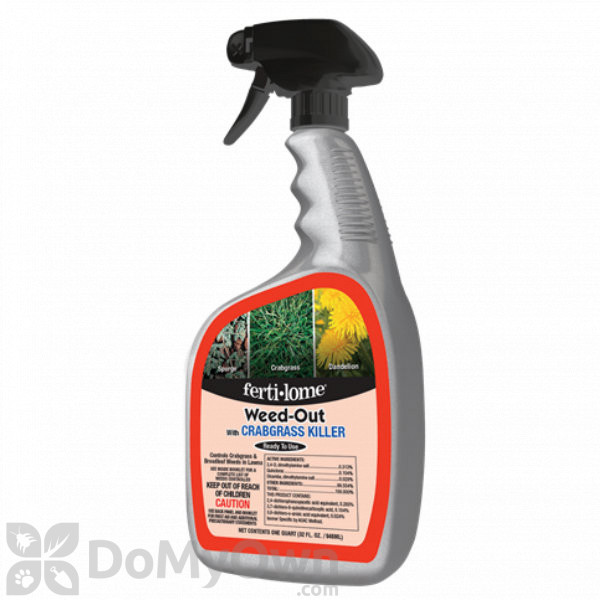crabgrass: (248, 281, 315, 379)
